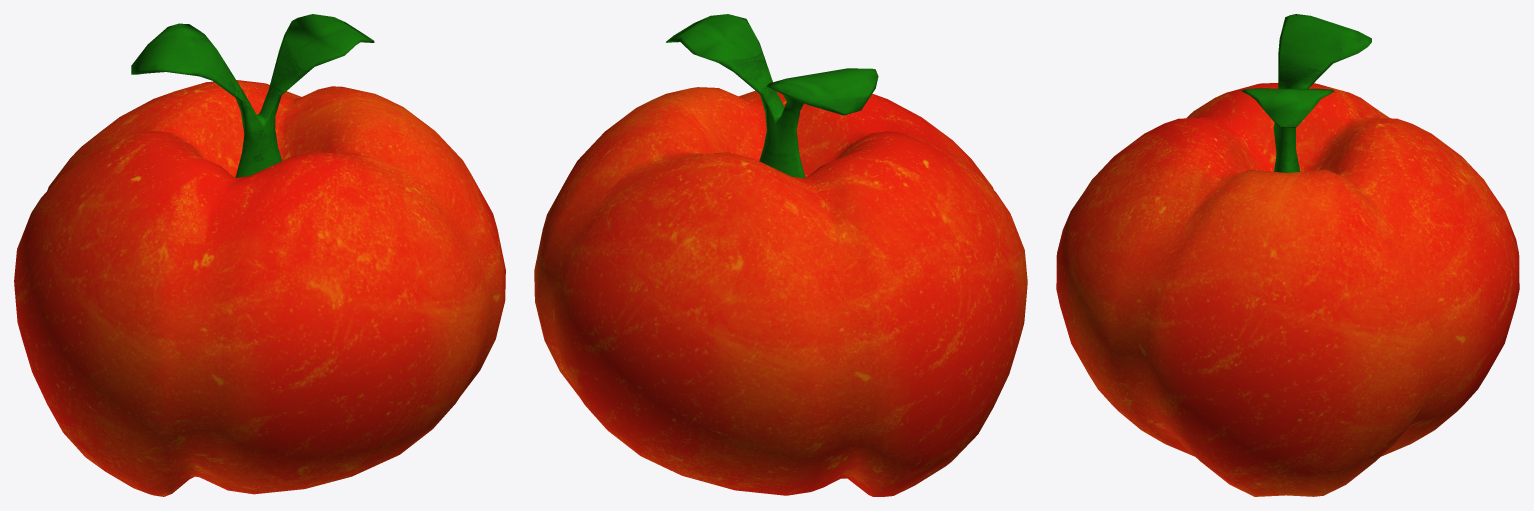
File: Tomato.fbx
The picture shows the model from 3 angles, left to right: view 1: azimuth 30°, elevation 25°; view 2: azimuth 150°, elevation 25°; view 3: azimuth 270°, elevation 25°; orthographic projection. The views are drawn at different scales.
Parts seen in each view (by area): view 1: TomatoL; view 2: TomatoL; view 3: TomatoL.
Boxes of the visible parts, x1=… form: TomatoL: x1=14, y1=14, x2=505, y2=496; TomatoL: x1=534, y1=14, x2=1027, y2=496; TomatoL: x1=1056, y1=14, x2=1519, y2=496.
Size of the model in its own units: 16.61 by 15.96 by 16.47.
